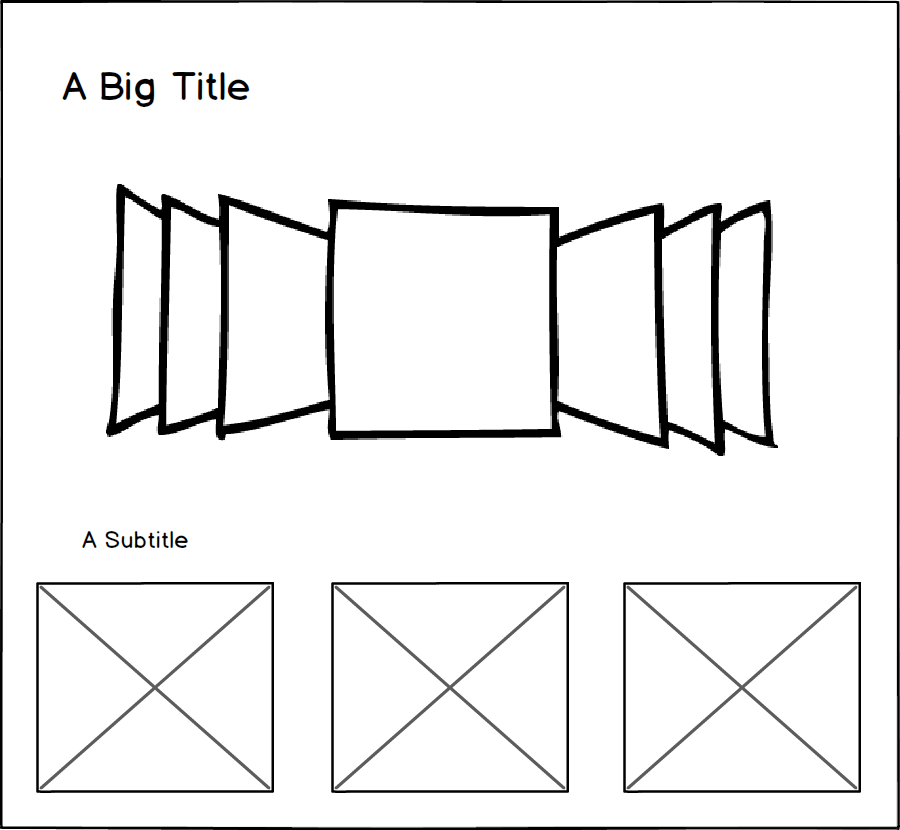h1: (51, 57, 264, 118), (74, 514, 193, 555)
image: (616, 577, 865, 799), (32, 576, 278, 799), (327, 577, 575, 796)
slideshow: (101, 169, 797, 468)
